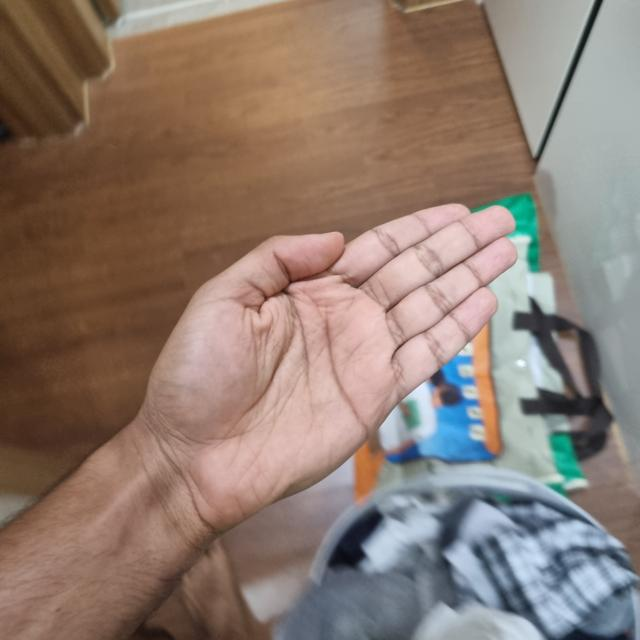Paper: (135, 197, 524, 531)
